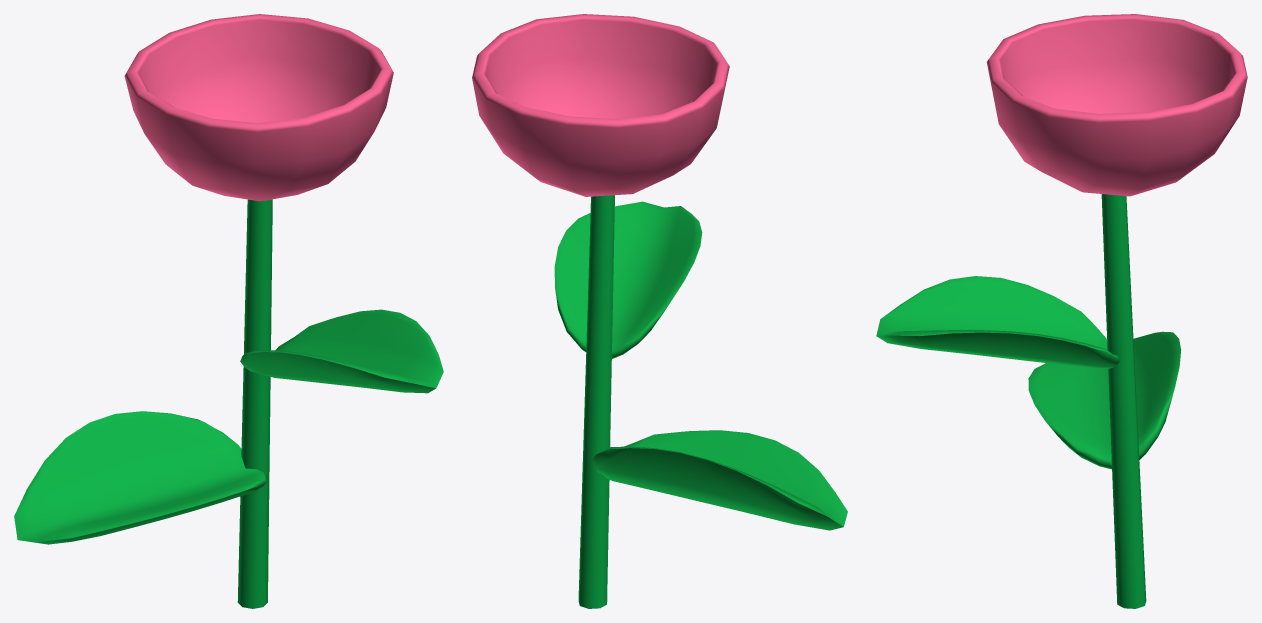
Rendered from Town_10_Flower_1.glb.
3 views of the same model, side by side, from view 1: azimuth 30°, elevation 25°; view 2: azimuth 150°, elevation 25°; view 3: azimuth 270°, elevation 25° (orthographic).
Parts seen in each view (by area): view 1: Town_10_Flower_1; view 2: Town_10_Flower_1; view 3: Town_10_Flower_1.
Boxes of the visible parts, x1,y1,x2,y2 form: Town_10_Flower_1: (14,14,443,608); Town_10_Flower_1: (472,14,847,608); Town_10_Flower_1: (876,14,1247,608).
Size of the model in its own units: 0.6031 by 0.8718 by 0.544.
Materials: 1 (1 with a texture image).
